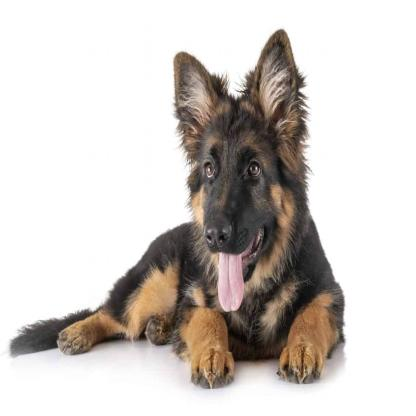german shepherd: (9, 33, 348, 384)
